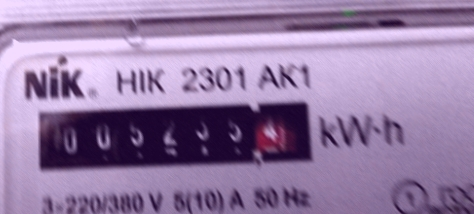0: (92, 118, 113, 152), (60, 123, 79, 155)
2: (158, 113, 180, 148)
3: (190, 110, 215, 144)
4: (259, 109, 282, 145)
5: (224, 109, 247, 145), (126, 115, 146, 149)
screen: (20, 88, 324, 183)
